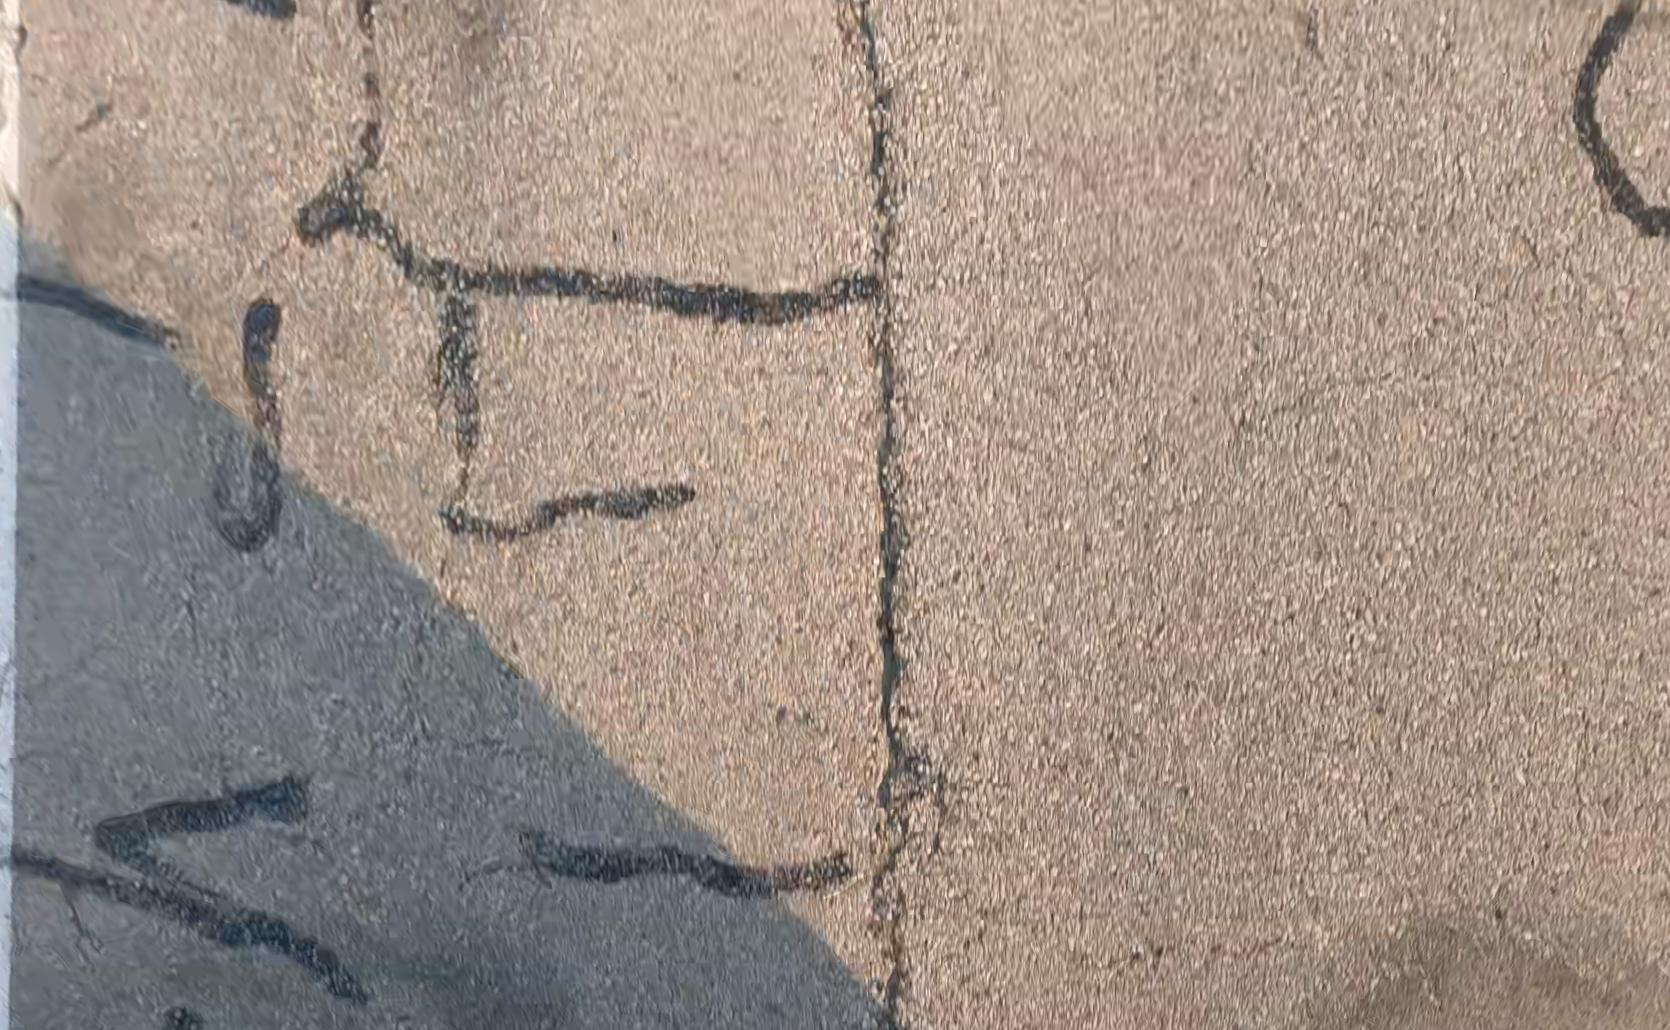pothole: (864, 796, 908, 899)
